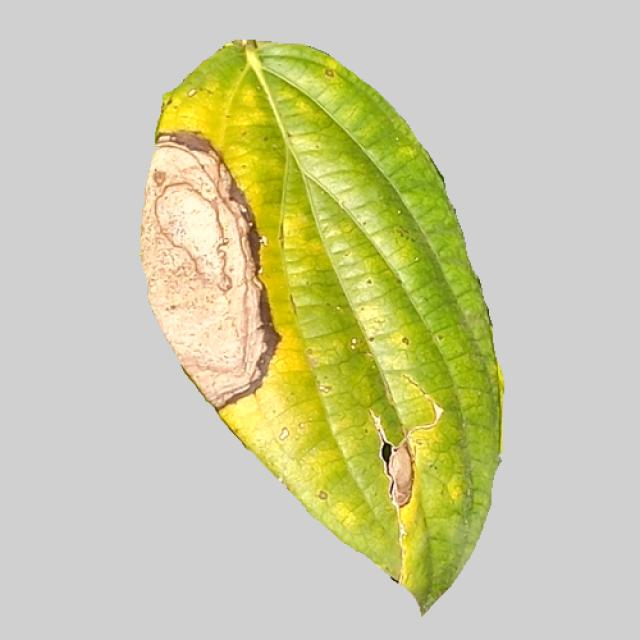leaf-blight: (104, 51, 516, 618)
